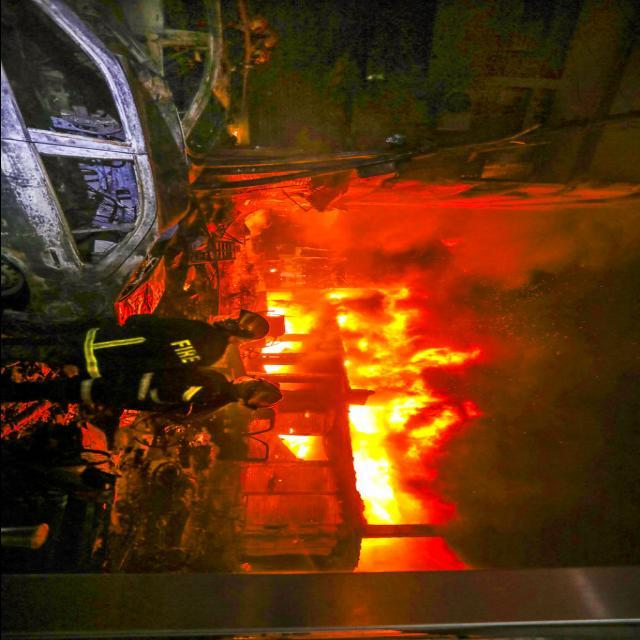Fire: (236, 280, 500, 578)
